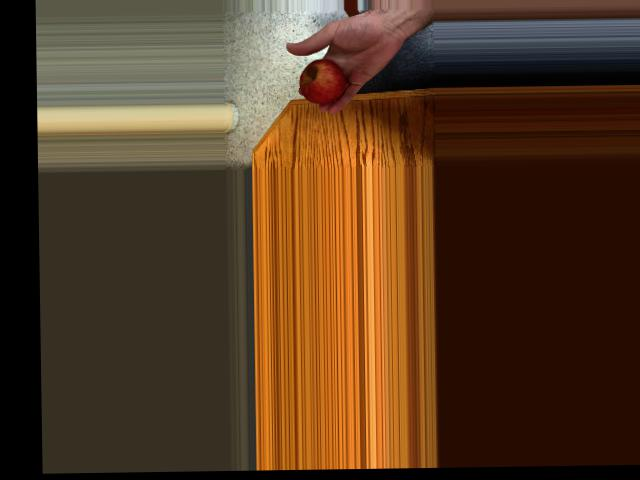apple: (298, 54, 352, 104)
